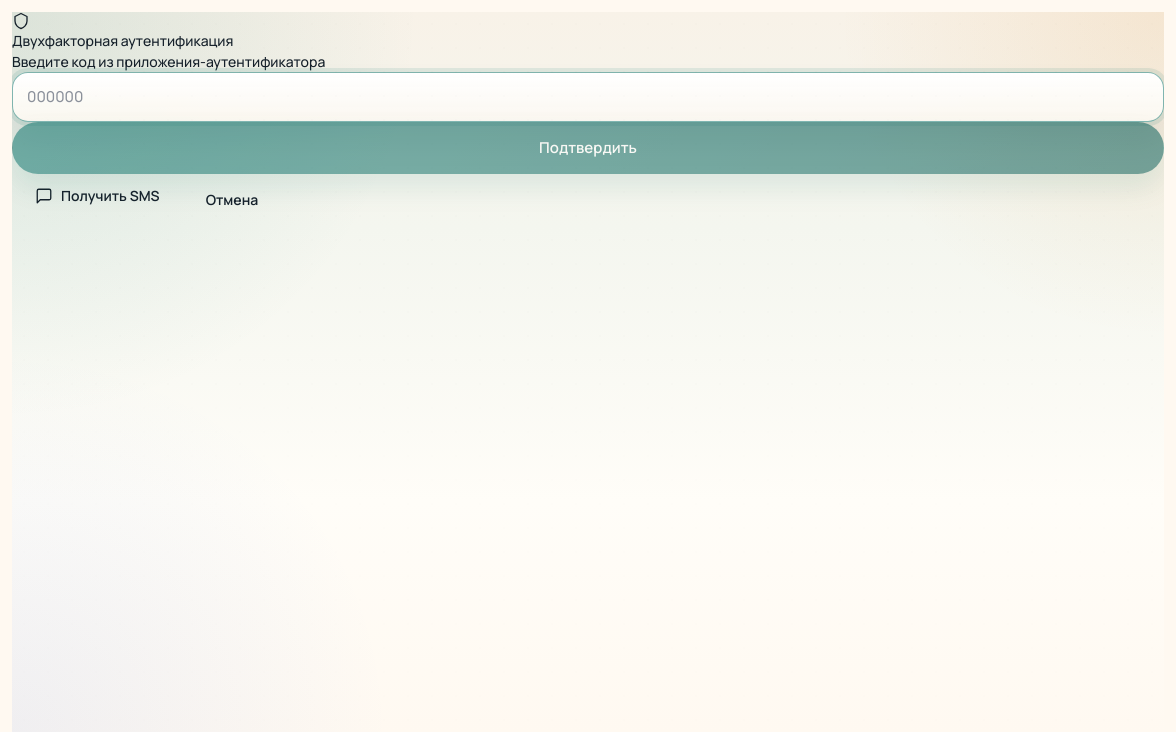
Test case: TwoFactorChallenge › filters non-digit characters from code
This screenshot has width=1176, height=732.
Step 1. Type "abc456" into the field with placeholder "000000" → (588, 97), box x1=12 y1=72 x2=1164 y2=122
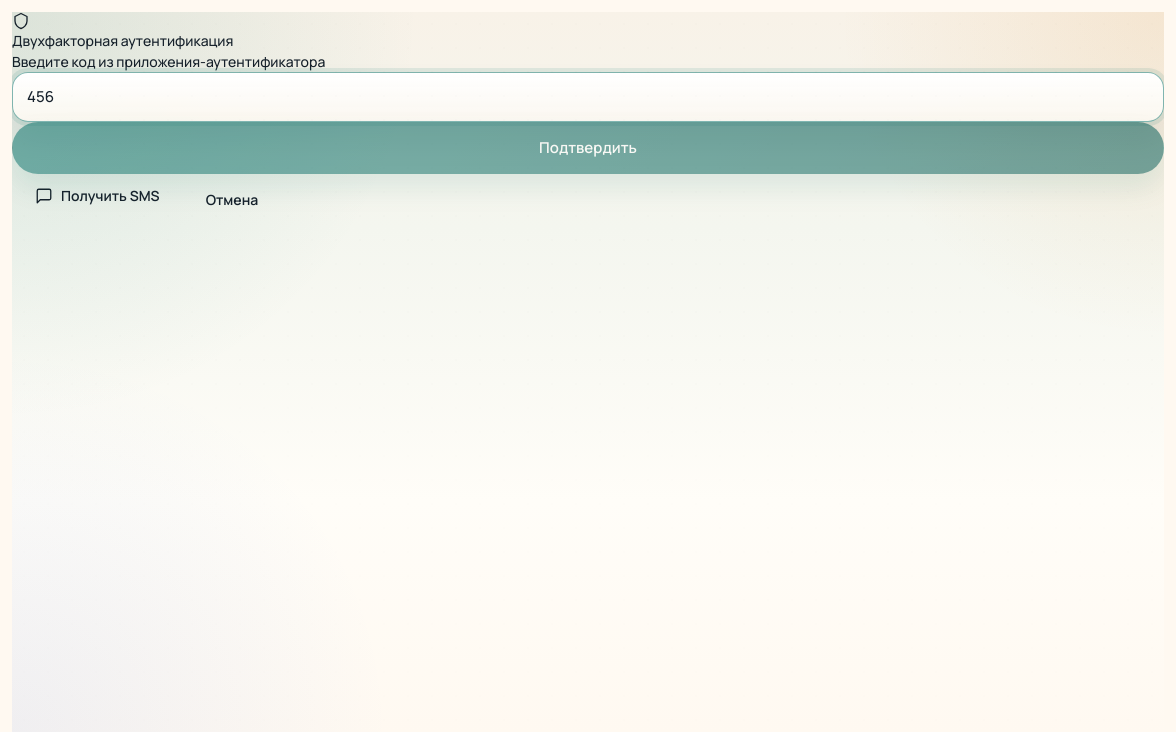
Expected: the field with placeholder "000000" holds "456", x1=12 y1=72 x2=1164 y2=122
